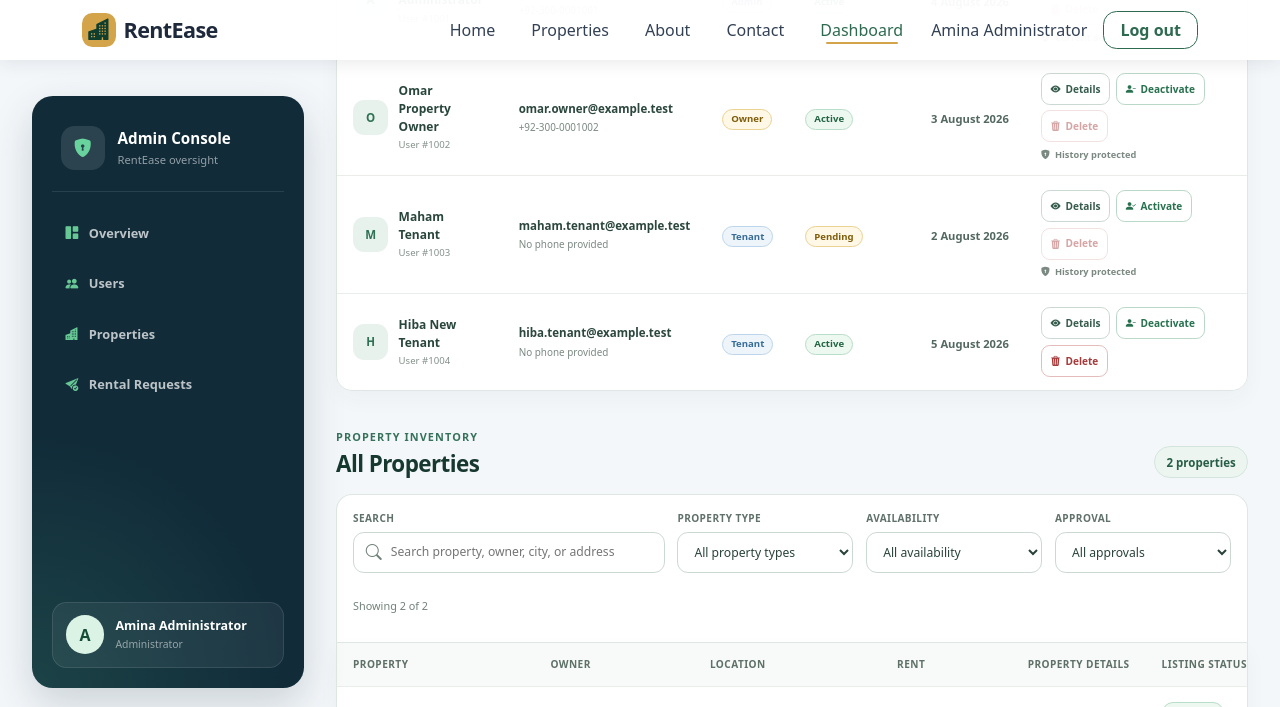
Test case: Admin dashboard page › confirms and deletes an eligible user while updating dashboard totals
(page scrolled)
Click the button with aria-label "Delete Hiba New Tenant": (1074, 361) [1041, 345, 1108, 377]
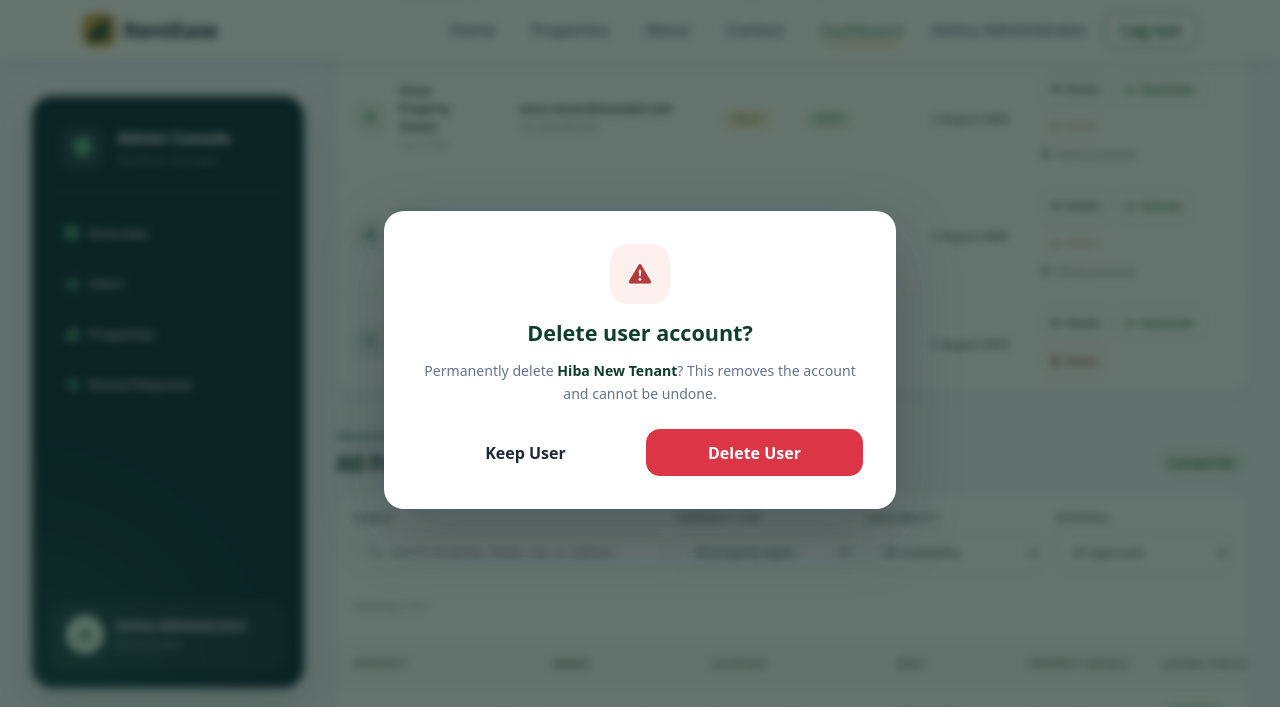
Check: the text "Hiba New Tenant" is shown, box [557, 361, 677, 380]
Click the button "Delete User": (754, 453) [646, 429, 863, 476]
(page scrolled)
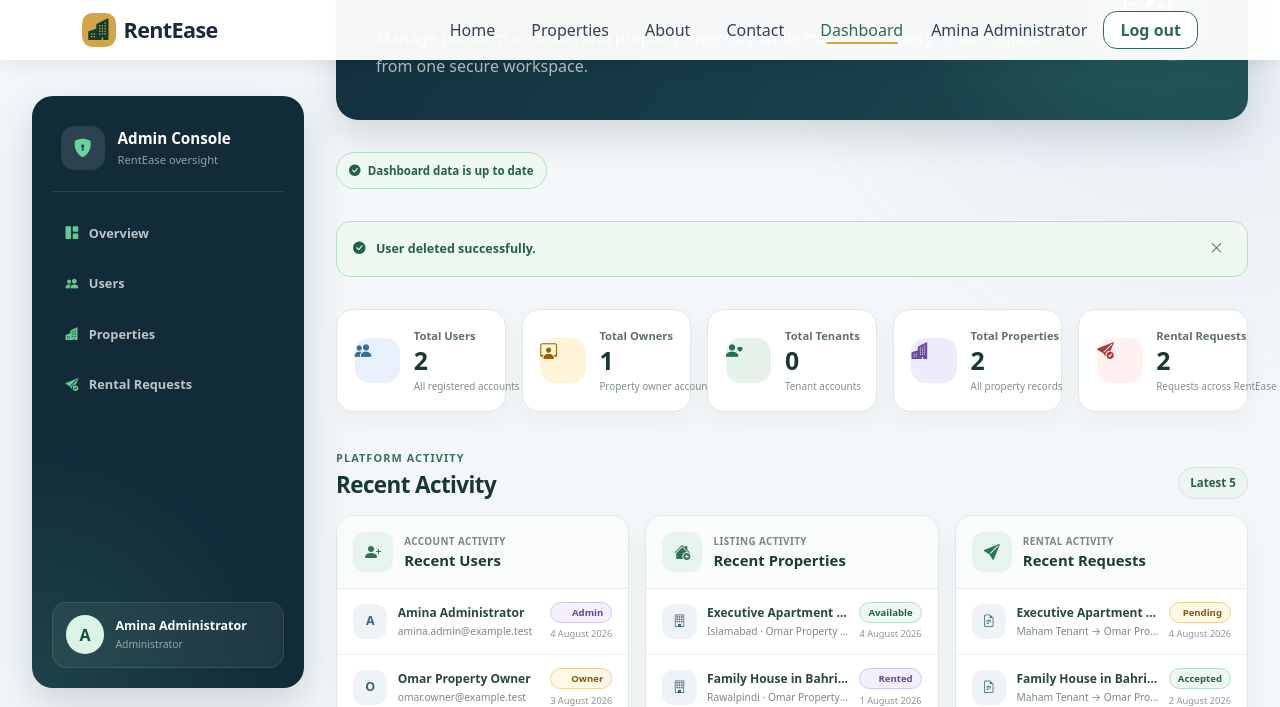
Check: the text "User deleted successfully." is shown, box [376, 240, 536, 256]
Check: the text "Hiba New Tenant" is gone
Check: the text "2" below "Total Users" is shown, box [414, 343, 428, 377]
